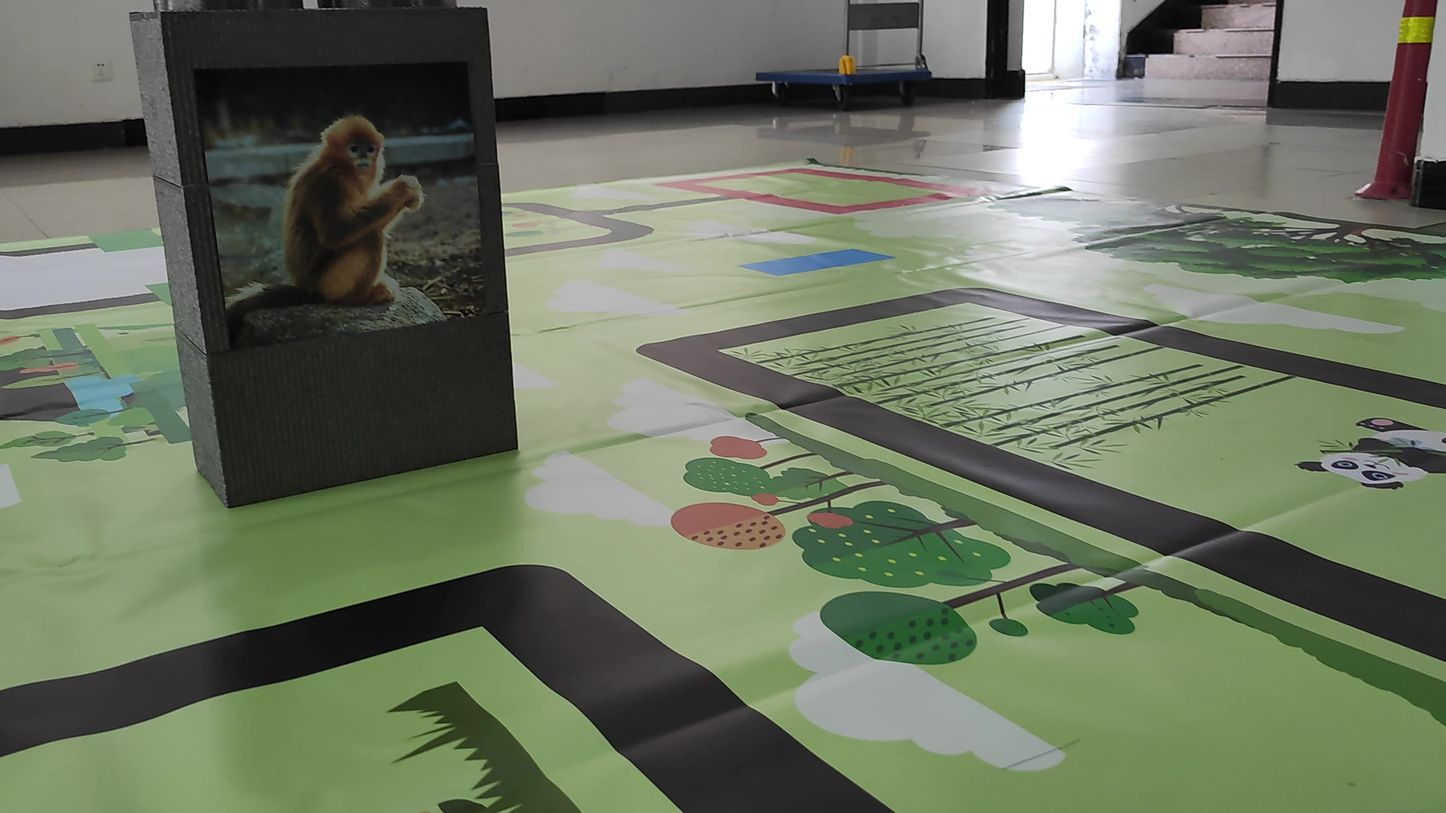monkey: (220, 97, 464, 338)
